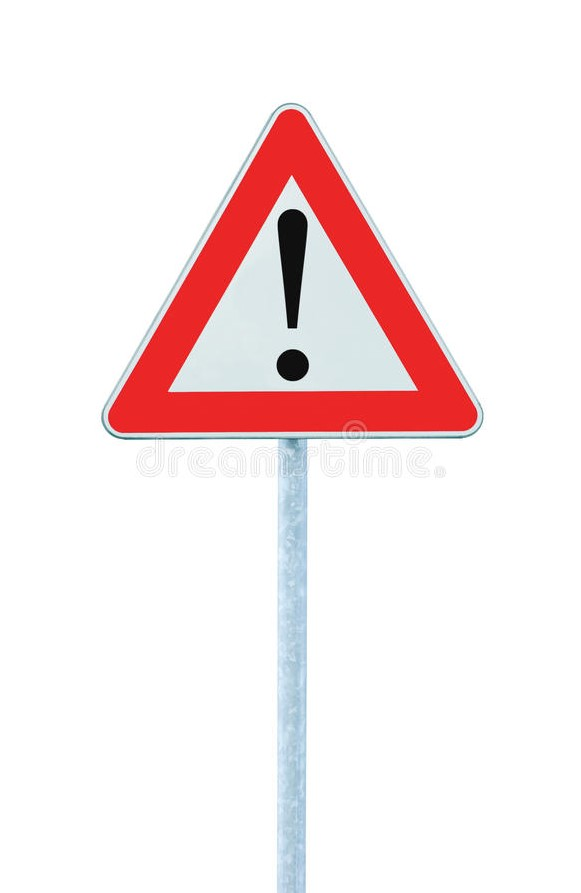Danger: (97, 98, 485, 443)
